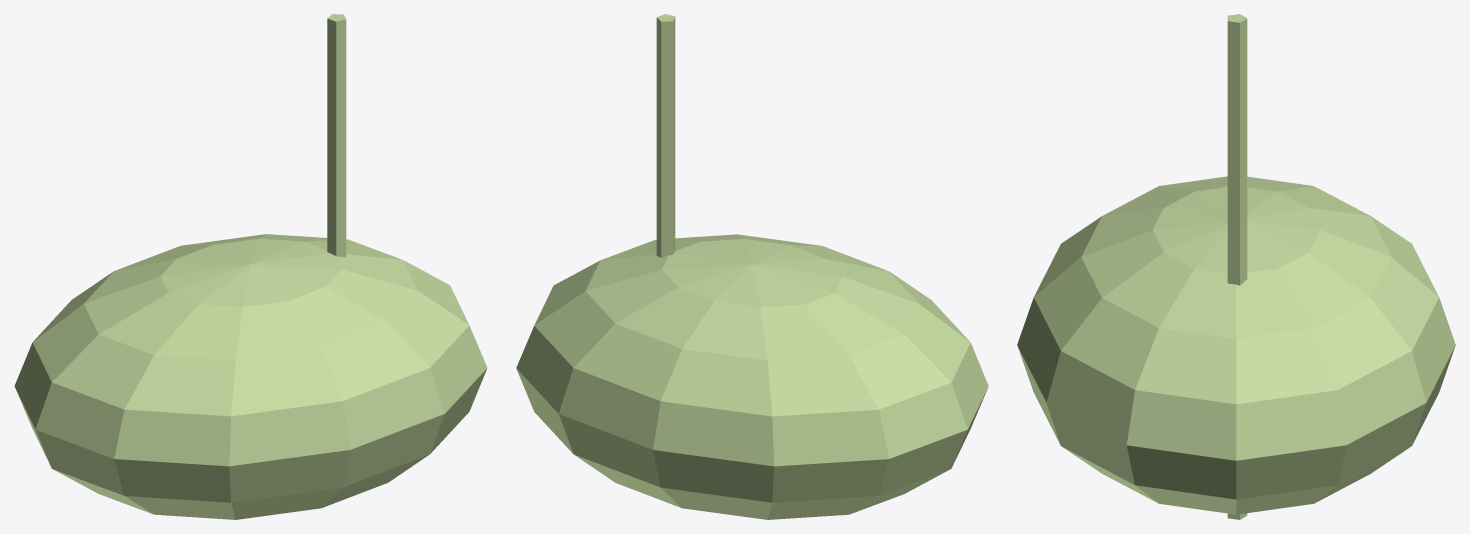
Rendered from verge_grass.glb.
3 views of the same model, side by side, from view 1: azimuth 30°, elevation 25°; view 2: azimuth 150°, elevation 25°; view 3: azimuth 270°, elevation 25° (orthographic). The views are drawn at different scales.
Parts seen in each view (by area): view 1: tuft, blade; view 2: tuft, blade; view 3: tuft, blade.
Boxes of the visible parts, x1,y1,x2,y2 form: tuft: (14,234,487,519); blade: (327,14,346,257); tuft: (516,234,988,519); blade: (656,14,675,257); tuft: (1017,176,1455,514); blade: (1227,14,1247,519).
Size of the model in its own units: 1 by 1 by 0.7998.
